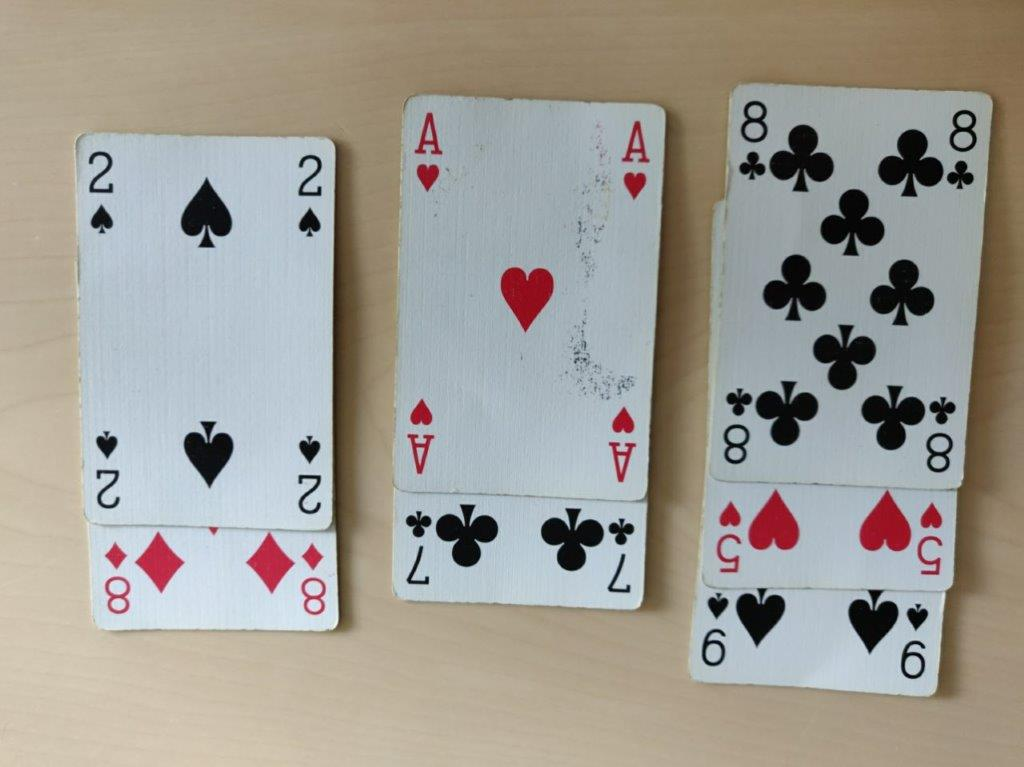2S: (74, 130, 333, 525)
5H: (703, 485, 958, 586)
6S: (693, 583, 970, 699)
7C: (394, 488, 658, 617)
8C: (724, 83, 968, 484)
8D: (85, 521, 337, 645)
AH: (401, 96, 658, 502)
